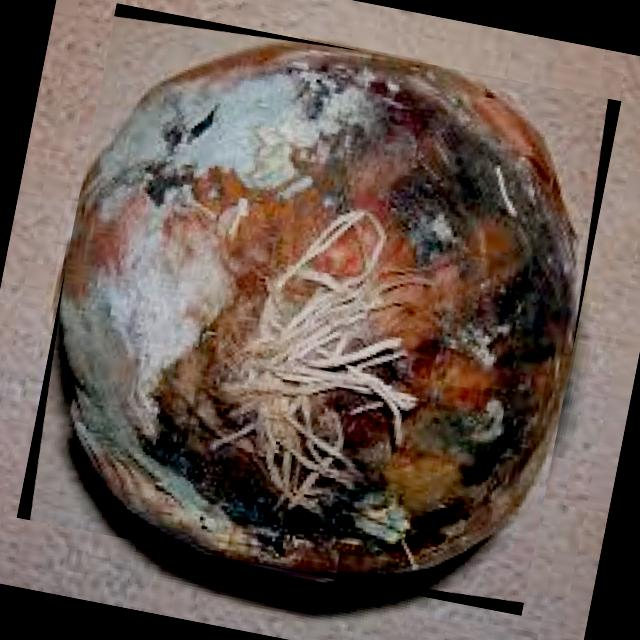rotten: (62, 44, 578, 572)
